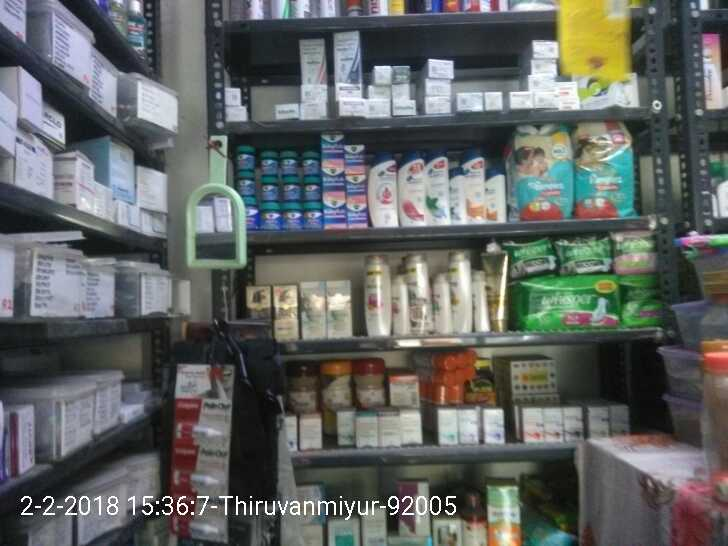vicks: (236, 138, 367, 230)
